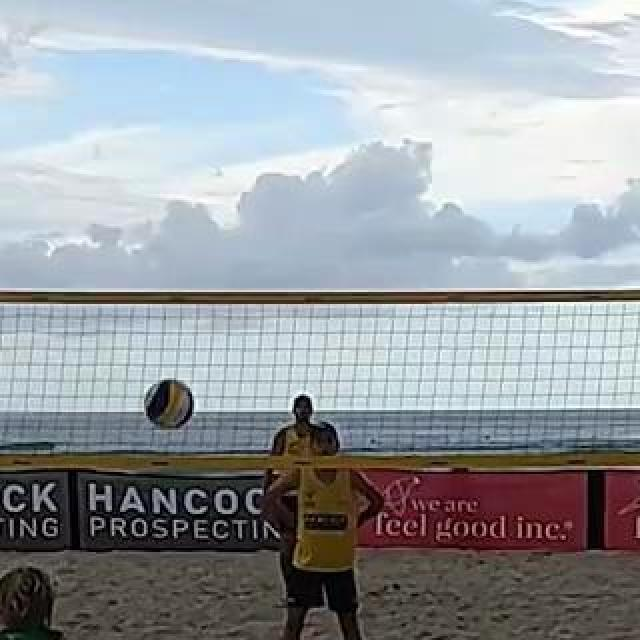volleyball: (147, 380, 195, 428)
